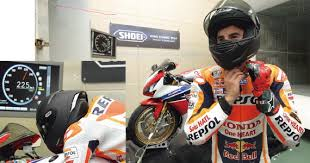helmet: (203, 3, 262, 61)
